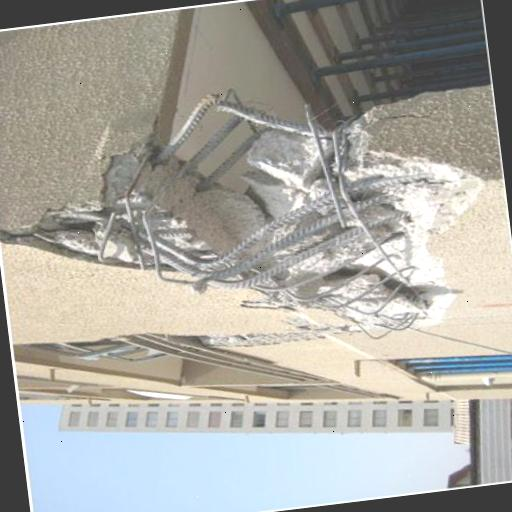spalling: (8, 90, 459, 328)
